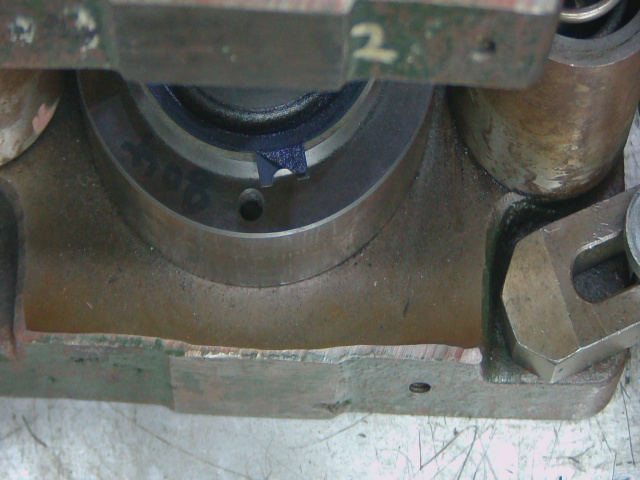OK: (249, 140, 321, 196)
